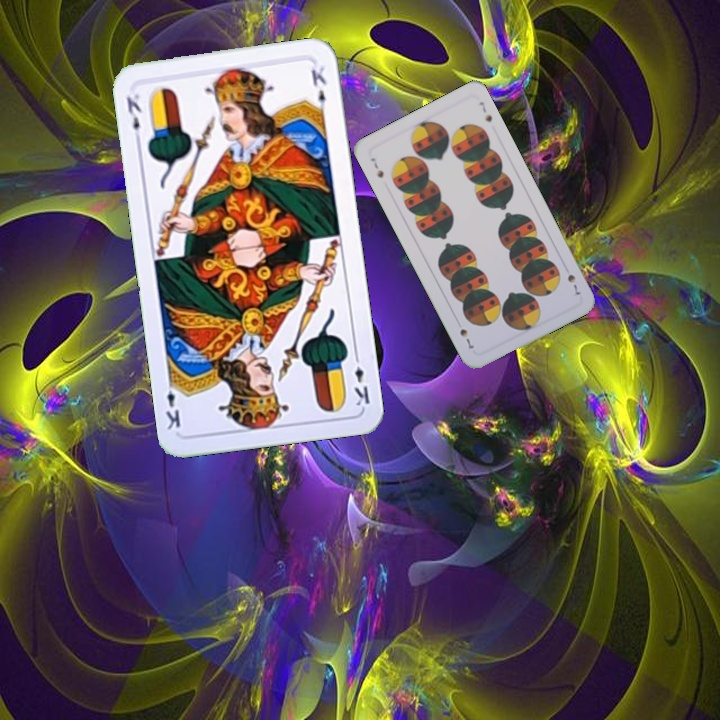EK: (350, 349, 372, 409), (122, 89, 144, 145)
S7: (563, 270, 583, 299), (366, 154, 386, 181)
